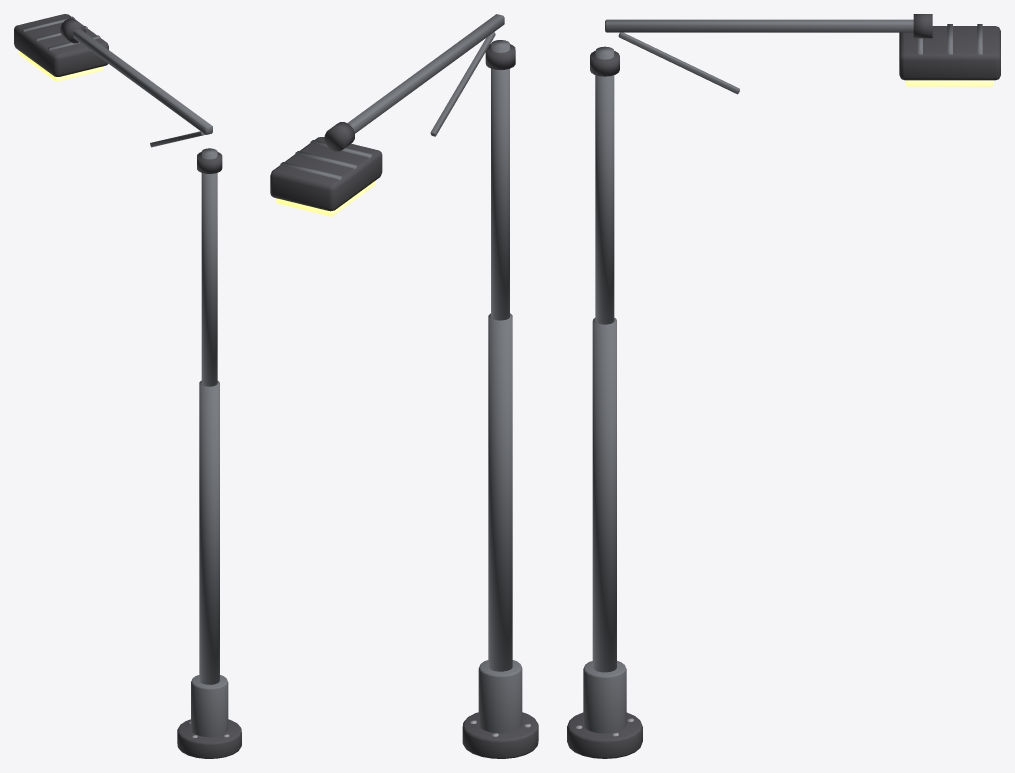
The model's file is street_lamp.glb.
The picture shows the model from 3 angles, left to right: view 1: azimuth 30°, elevation 25°; view 2: azimuth 150°, elevation 25°; view 3: azimuth 270°, elevation 25°; orthographic projection. The views are drawn at different scales.
Visible parts, largest first — view 1: SL_PoleLower, SL_PoleUpper, SL_Housing, SL_Base, SL_Arm, SL_Foot, SL_Diffuser, SL_Collar; view 2: SL_PoleLower, SL_Housing, SL_PoleUpper, SL_Base, SL_Arm, SL_Foot, SL_Brace, SL_Elbow, SL_Diffuser, SL_Collar; view 3: SL_PoleLower, SL_PoleUpper, SL_Housing, SL_Arm, SL_Base, SL_Foot, SL_Brace.
Boxes of the visible parts, box(x1,y1,x2,y2) form: SL_PoleLower: box(199, 380, 219, 684); SL_PoleUpper: box(201, 148, 217, 386); SL_Housing: box(14, 14, 108, 76); SL_Base: box(191, 675, 228, 736); SL_Arm: box(73, 29, 212, 134); SL_Foot: box(177, 719, 241, 758); SL_Diffuser: box(19, 51, 103, 81); SL_Collar: box(197, 152, 222, 173); SL_PoleLower: box(488, 313, 512, 671); SL_Housing: box(270, 137, 382, 211); SL_PoleUpper: box(491, 40, 509, 320); SL_Base: box(478, 660, 522, 733); SL_Arm: box(347, 14, 504, 133); SL_Foot: box(462, 712, 538, 758); SL_Brace: box(430, 32, 495, 136); SL_Elbow: box(324, 122, 354, 151); SL_Diffuser: box(276, 180, 375, 216); SL_Collar: box(485, 44, 515, 69); SL_PoleLower: box(592, 318, 616, 672); SL_PoleUpper: box(595, 46, 614, 324); SL_Housing: box(899, 26, 1000, 80); SL_Arm: box(605, 19, 913, 32); SL_Base: box(583, 661, 626, 733); SL_Foot: box(567, 712, 642, 758); SL_Brace: box(618, 32, 739, 94).
Bounding box in the file's own units: 0.56 × 5.94 × 3.2.
